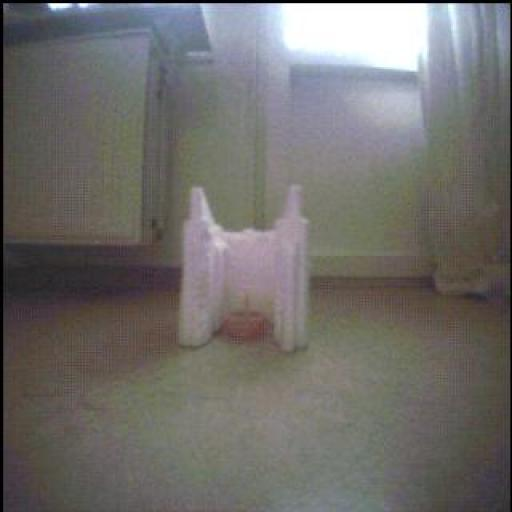Basket: (224, 311, 269, 342)
